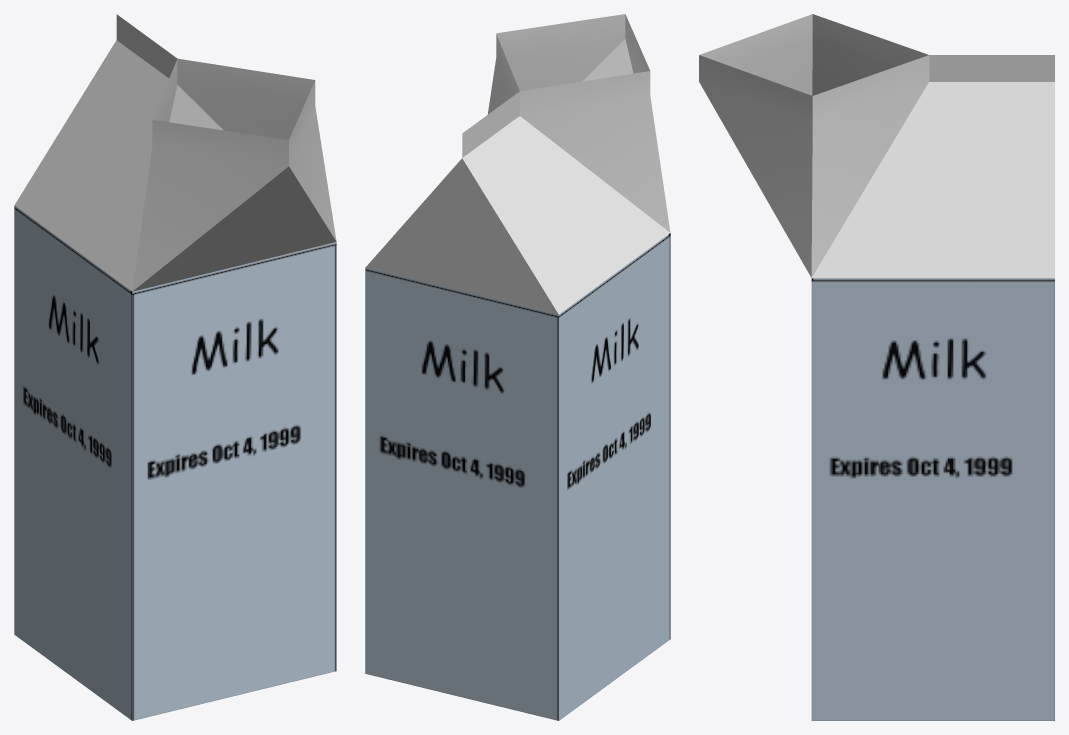
The model's file is ExpiredMilk.fbx.
3 views of the same model, side by side, from view 1: azimuth 30°, elevation 25°; view 2: azimuth 150°, elevation 25°; view 3: azimuth 270°, elevation 25° (orthographic). The views are drawn at different scales.
Visible parts, largest first — view 1: Carton; view 2: Carton; view 3: Carton.
Part boxes in pixels (x1,y1,x2,y2): Carton: [14, 14, 336, 720]; Carton: [365, 14, 670, 720]; Carton: [699, 14, 1054, 720].
Size of the model in its own units: 200 by 557 by 292.
